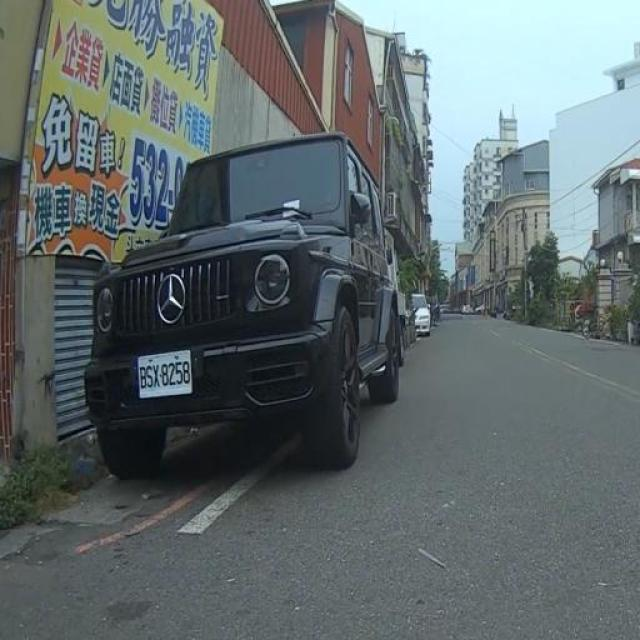illegalparking: (71, 136, 438, 549)
